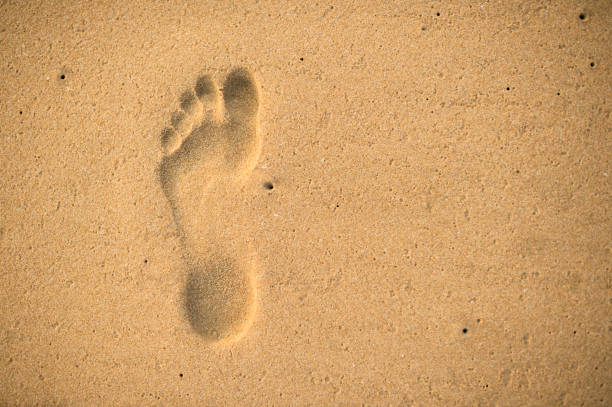human_foot_print: (158, 68, 261, 341)
